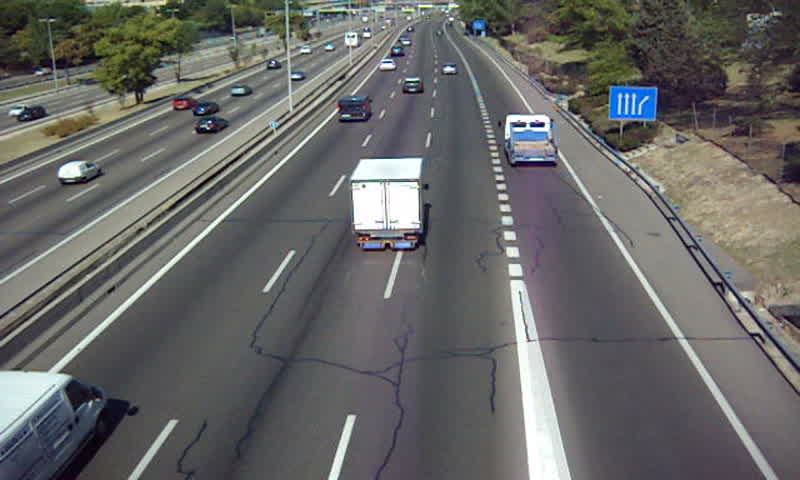car: (400, 76, 425, 97), (378, 57, 396, 73), (442, 62, 458, 74)
small-truck: (350, 157, 425, 253), (504, 113, 557, 166)
van: (336, 96, 370, 119)
